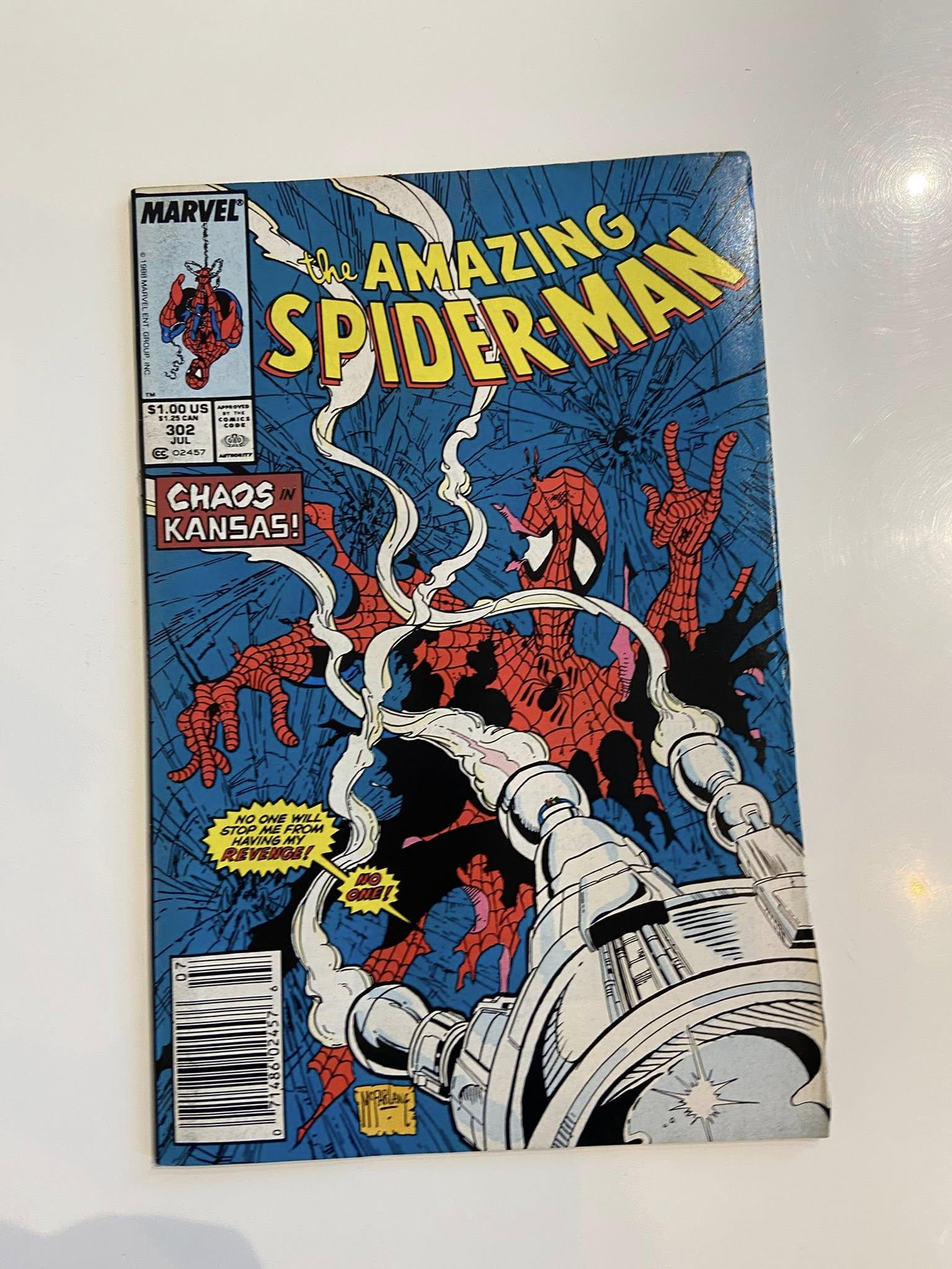comic: (97, 150, 830, 1177)
